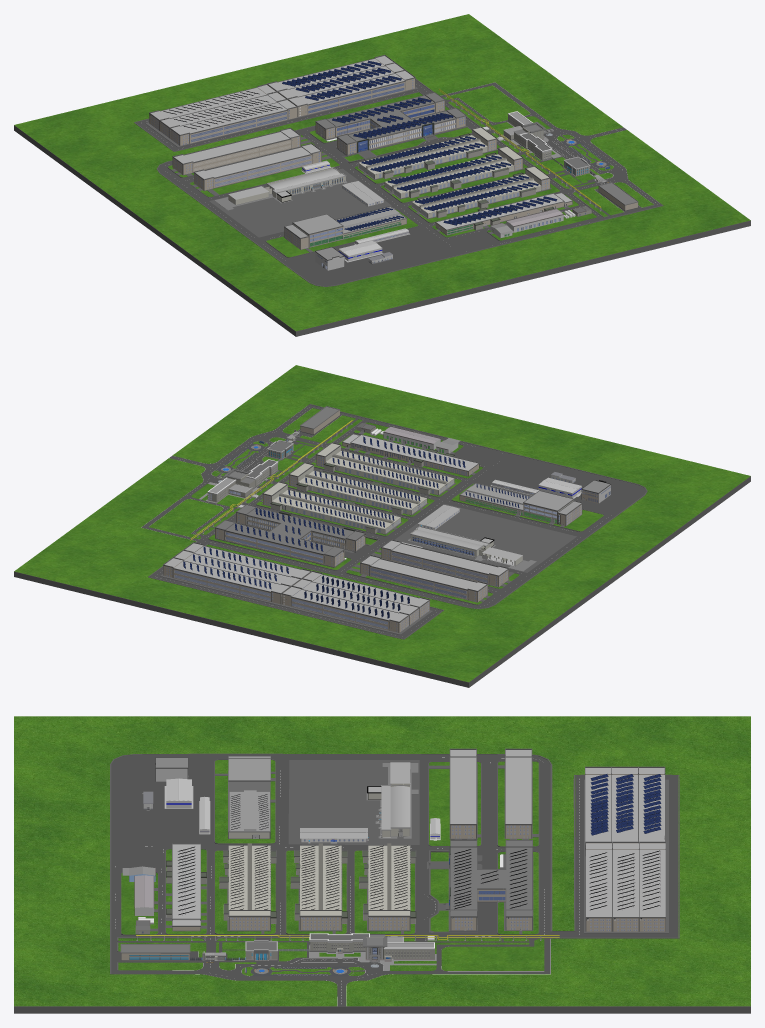
File: factory_model.glb
3 views of the same model, one above another, from view 1: azimuth 30°, elevation 25°; view 2: azimuth 150°, elevation 25°; view 3: azimuth 270°, elevation 25° (orthographic). The views are drawn at different scales.
Visible parts, largest first — view 1: Merged_Vertex - Map Grass 01, Merged_fallback Material.904, Plane.1460, Merged_fallback Material.892, Object1746171052, Merged_Deraza Oyna, Merged_solarkr.007, Merged_fallback Material.003, Merged_solarkr.148, Merged_Material.017, Merged_fasad_bino.005, Merged_Material.036 (+23 smaller); view 2: Merged_Vertex - Map Grass 01, Merged_fallback Material.904, Plane.1460, Merged_fallback Material.892, Object1746171052, Merged_fallback Material.168, Merged_Deraza Oyna, Merged_fallback Material.003, Merged_fasad_bino.005, Merged_Material.017, Merged_fallback Material.055, Merged_fallback Material.036 (+23 smaller); view 3: Merged_Vertex - Map Grass 01, Merged_fallback Material.904, Plane.1460, Merged_fallback Material.892, Merged_fallback Material.168, Object1746171052, Merged_Material.017, Merged_Material.036, Merged_fallback Material.055, Merged_solarkr.148, Merged_fallback Material.036, Merged_solarkr.007 (+32 smaller).
Part boxes in pixels (x1,y1,x2,y2): Merged_Vertex - Map Grass 01: (14, 14, 750, 331); Merged_fallback Material.904: (136, 79, 662, 286); Plane.1460: (14, 85, 750, 336); Merged_fallback Material.892: (151, 56, 413, 134); Object1746171052: (443, 85, 653, 216); Merged_Deraza Oyna: (191, 83, 585, 268); Merged_solarkr.007: (361, 136, 538, 210); Merged_fallback Material.003: (145, 83, 466, 158); Merged_solarkr.148: (163, 60, 401, 129); Merged_Material.017: (134, 78, 663, 286); Merged_fasad_bino.005: (173, 136, 321, 190); Merged_Material.036: (171, 126, 569, 252); Merged_Vertex - Map Grass 01: (14, 365, 750, 682); Merged_fallback Material.904: (141, 404, 646, 638); Plane.1460: (14, 458, 750, 687); Merged_fallback Material.892: (164, 543, 428, 621); Object1746171052: (149, 408, 362, 539); Merged_fallback Material.168: (272, 451, 453, 528); Merged_Deraza Oyna: (174, 444, 610, 629); Merged_fallback Material.003: (160, 507, 432, 634); Merged_fasad_bino.005: (360, 548, 508, 601); Merged_Material.017: (148, 404, 647, 639); Merged_fallback Material.055: (216, 505, 364, 555); Merged_fallback Material.036: (362, 540, 507, 590); Merged_Vertex - Map Grass 01: (14, 716, 750, 1006); Merged_fallback Material.904: (111, 754, 677, 1006); Plane.1460: (14, 760, 750, 1013); Merged_fallback Material.892: (585, 768, 665, 916); Merged_fallback Material.168: (228, 845, 410, 917); Object1746171052: (118, 938, 544, 975); Merged_Material.017: (110, 753, 679, 974); Merged_Material.036: (150, 765, 538, 934); Merged_fallback Material.055: (450, 840, 532, 916); Merged_solarkr.148: (589, 774, 661, 910); Merged_fallback Material.036: (450, 750, 531, 823); Merged_solarkr.007: (230, 845, 407, 909).
Size of the model in its own units: 668 by 27.52 by 717.
Materials: 195 (22 with a texture image).
